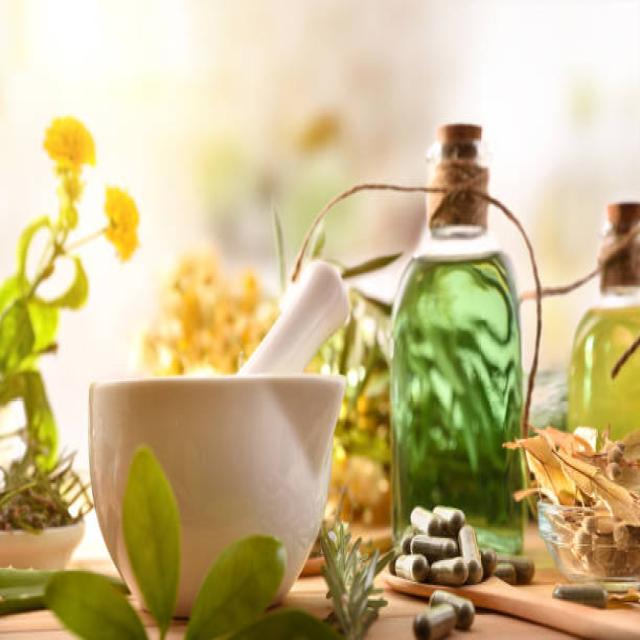Bottle: (392, 193, 526, 553), (568, 237, 639, 439)
